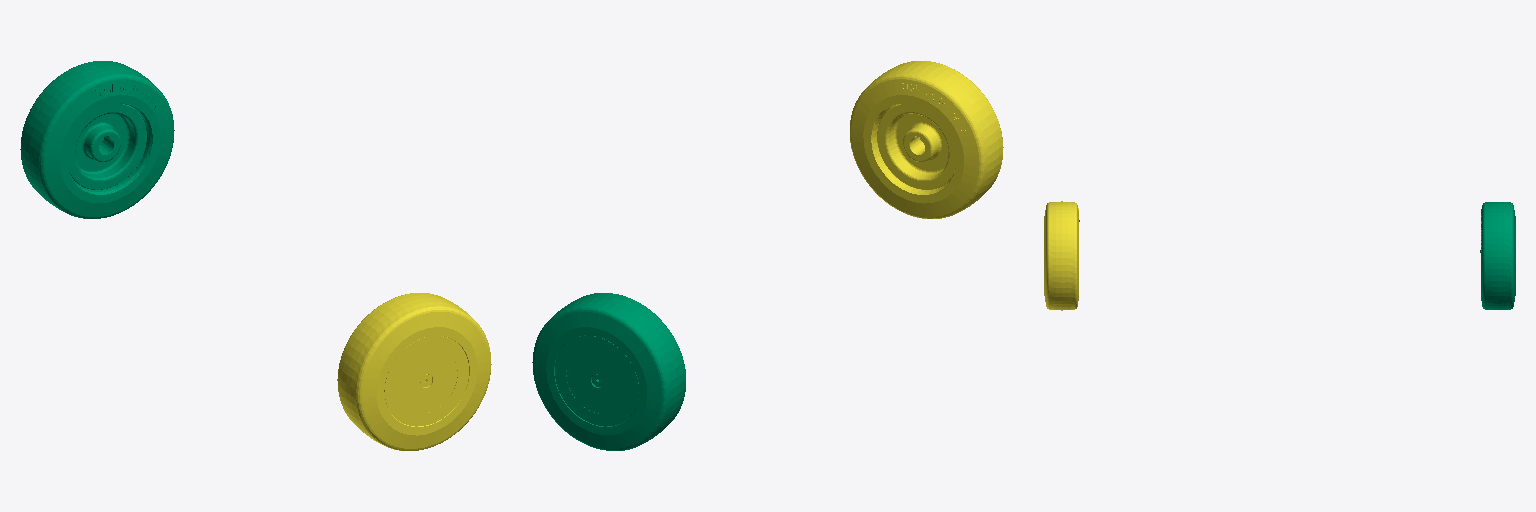
The robot description file, URDF, robot "swd_starter_kit":
<?xml version="1.0" encoding="utf-8"?>
<!-- This URDF describes the SWD Starter Kit robot -->

<robot name="swd_starter_kit">
  <link name="base_footprint"/>

  <joint name="base_joint" type="fixed">
    <parent link="base_footprint"/>
    <child link="base_link" />
    <origin xyz="0 0 0" rpy="0 0 0"/>
  </joint>

  <link name="base_link">
    <visual>
      <origin xyz="-0.46 -0.27 0.0" rpy="0 0 0" />
      <geometry>
        <mesh
            filename="package://swd_starter_kit_description/meshes/starter_kit_base.stl"
            scale="0.001 0.001 0.001" />
      </geometry>
      <material name="">
        <color rgba="0.5 0.5 0.5 1" />
      </material>
    </visual>
    <collision>
      <origin xyz="-0.46 -0.27 0.0" rpy="0 0 0" />
      <geometry>
        <mesh
            filename="package://swd_starter_kit_description/meshes/starter_kit_base.stl"
            scale="0.001 0.001 0.001"/>
      </geometry>
    </collision>
    <inertial>
      <origin xyz="-0.05 0 0" rpy="0 0 0"/>
      <mass value="27"/>
      <inertia ixx="0.70673" ixy="0.0" ixz="0.0"
               iyy="0.70673" iyz="0.0"
               izz="1.31220" />
    </inertial>
  </link>

  <joint name="base_swd_left_joint" type="continuous">
    <parent link="base_link" />
    <child link="swd_left_link" />
    <origin xyz="0.0 0.25 0.08" rpy="-1.57 0 0" />
    <axis xyz="0 0 1" />
  </joint>

  <link name="swd_left_link">
    <visual>
      <origin xyz="0 0 0" rpy="1.57 0 0"/>
      <geometry>
        <mesh filename="package://swd_starter_kit_description/meshes/wheels/starter_kit_left_tire.stl" scale="0.001 0.001 0.001"/>
      </geometry>
    </visual>

    <collision>
      <origin xyz="0 0 0" rpy="0 0 0"/>
      <geometry>
        <cylinder length="0.037" radius="0.0630"/>
      </geometry>
    </collision>

    <inertial>
      <origin xyz="0 0 0" />
      <mass value="1" />
      <inertia ixx="0.00111" ixy="0.0" ixz="0.0"
               iyy="0.00111" iyz="0.0"
               izz="0.00198" />
      </inertial>
  </link>

  <joint name="base_swd_right_joint" type="continuous">
    <parent link="base_link" />
    <child link="swd_right_link" />
    <origin xyz="0.0 -0.25 0.08" rpy="-1.57 0 0" />
    <axis xyz="0 0 1" />
  </joint>

  <link name="swd_right_link">
    <visual>
      <origin xyz="0 0 0" rpy="1.57 0 0"/>
      <geometry>
        <mesh filename="package://swd_starter_kit_description/meshes/wheels/starter_kit_right_tire.stl" scale="0.001 0.001 0.001"/>
      </geometry>
    </visual>

    <collision>
      <origin xyz="0 0 0" rpy="0 0 0"/>
      <geometry>
        <cylinder length="0.037" radius="0.0630"/>
      </geometry>
    </collision>

    <inertial>
      <origin xyz="0 0 0" />
      <mass value="1" />
      <inertia ixx="0.00111" ixy="0.0" ixz="0.0"
               iyy="0.00111" iyz="0.0"
               izz="0.00198" />
      </inertial>
  </link>

  <joint name="caster_back_right_joint" type="fixed">
    <parent link="base_link"/>
    <child link="caster_back_right_link"/>
    <origin xyz="-0.35 -0.17 0.025" rpy="0 0 0"/>
  </joint>

  <link name="caster_back_right_link">
    <collision>
      <origin xyz="0 0.001 0" rpy="0 0 0"/>
      <geometry>
        <sphere radius="0.01"/>
      </geometry>
    </collision>

    <inertial>
      <origin xyz="0 0 0" />
      <mass value="0.005" />
      <inertia ixx="0.001" ixy="0.0" ixz="0.0"
               iyy="0.001" iyz="0.0"
               izz="0.001" />
    </inertial>
  </link>

  <joint name="caster_back_left_joint" type="fixed">
    <parent link="base_link"/>
    <child link="caster_back_left_link"/>
    <origin xyz="-0.35 0.17 0.025" rpy="0 0 0"/>
  </joint>

  <link name="caster_back_left_link">
    <collision>
      <origin xyz="0 0.001 0" rpy="0 0 0"/>
      <geometry>
        <sphere radius="0.01"/>
      </geometry>
    </collision>

    <inertial>
      <origin xyz="0 0 0" />
      <mass value="0.005" />
      <inertia ixx="0.001" ixy="0.0" ixz="0.0"
               iyy="0.001" iyz="0.0"
               izz="0.001" />
    </inertial>
  </link>

  <gazebo reference="swd_left_link">
    <mu1>0.7</mu1>
    <mu2>0.7</mu2>
    <kp>500000.0</kp>
    <kd>10.0</kd>
    <minDepth>0.001</minDepth>
    <maxVel>0.1</maxVel>
    <fdir1>1 0 0</fdir1>
    <material>Gazebo/Yellow</material>
  </gazebo>

  <gazebo reference="swd_right_link">
    <mu1>0.7</mu1>
    <mu2>0.7</mu2>
    <kp>500000.0</kp>
    <kd>10.0</kd>
    <minDepth>0.001</minDepth>
    <maxVel>0.1</maxVel>
    <fdir1>1 0 0</fdir1>
    <material>Gazebo/Yellow</material>
  </gazebo>

  <gazebo reference="caster_back_right_link">
    <mu1>0.05</mu1>
    <mu2>0.05</mu2>
    <kp>500000.0</kp>
    <kd>10.0</kd>
    <minDepth>0.001</minDepth>
    <maxVel>1.0</maxVel>
    <material>Gazebo/FlatBlack</material>
  </gazebo>

  <gazebo reference="caster_back_left_link">
    <mu1>0.05</mu1>
    <mu2>0.05</mu2>
    <kp>500000.0</kp>
    <kd>10.0</kd>
    <minDepth>0.001</minDepth>
    <maxVel>1.0</maxVel>
    <material>Gazebo/FlatBlack</material>
  </gazebo>

  <gazebo>
    <plugin name="diff_drive_controller" filename="libgazebo_ros_diff_drive.so">
      <commandTopic>/swd_diff_drive_controller/cmd_vel</commandTopic>
      <odometryTopic>/swd_diff_drive_controller/odom</odometryTopic>
      <odometryFrame>odom</odometryFrame>
      <odometrySource>world</odometrySource>
      <publishOdomTF>true</publishOdomTF>
      <robotBaseFrame>base_link</robotBaseFrame>
      <publishWheelTF>false</publishWheelTF>
      <publishTf>true</publishTf>
      <publishWheelJointState>true</publishWheelJointState>
      <legacyMode>false</legacyMode>
      <updateRate>30</updateRate>
      <leftJoint>base_swd_left_joint</leftJoint>
      <rightJoint>base_swd_right_joint</rightJoint>
      <wheelSeparation>0.485</wheelSeparation>
      <wheelDiameter>0.125</wheelDiameter>
      <wheelAcceleration>11</wheelAcceleration>
      <wheelTorque>37</wheelTorque>
      <rosDebugLevel>na</rosDebugLevel>
    </plugin>
  </gazebo>

  <joint name="base_lidar_link" type="fixed">
    <origin xyz="0.05 0 0.2" rpy="0 0 0" />
    <parent link="base_link" />
    <child link="lidar_link" />
    <axis xyz="0 0 0" />
  </joint>

  <link name="lidar_link">
    <collision>
      <origin xyz="0 0 0" rpy="0 0 0"/>
      <geometry>
        <cylinder length="0.02" radius="0.035"/>
      </geometry>
    </collision>

    <inertial>
      <mass value="0.1" />
      <origin xyz="0 0 0" />
      <inertia ixx="0.001" ixy="0.0" ixz="0.0"
               iyy="0.001" iyz="0.0"
               izz="0.001" />
    </inertial>
  </link>

  <gazebo reference="lidar_link">
    <material>Gazebo/FlatBlack</material>
    <sensor type="ray" name="lidar_sensor">
      <pose>0 0 0 0 0 0</pose>
      <visualize>true</visualize>
      <update_rate>30</update_rate>
      <ray>
        <scan>
          <horizontal>
            <samples>1080</samples>
            <resolution>1</resolution>
            <min_angle>-2.356194496154785</min_angle>
            <max_angle>2.356194496154785</max_angle>
          </horizontal>
        </scan>
        <range>
          <min>0.09</min>
          <max>20</max>
          <resolution>0.001</resolution>
        </range>
        <noise>
          <type>gaussian</type>
          <mean>0.0</mean>
          <stddev>0.01</stddev>
        </noise>
      </ray>
      <plugin name="laser_controller" filename="libgazebo_ros_laser.so">
        <topicName>scan</topicName>
        <frameName>lidar_link</frameName>
      </plugin>
    </sensor>
  </gazebo>

</robot>

--- Facts derived from the render (not from the file) ---
The picture shows the robot from 3 angles, left to right: view 1: azimuth 30°, elevation 25°; view 2: azimuth 150°, elevation 25°; view 3: azimuth 270°, elevation 25°; orthographic projection.
Model swd_starter_kit with 7 links and 6 joints (2 continuous, 4 fixed), rooted at base_footprint, posed every joint at zero.
Links seen in each view (by area): view 1: swd_left_link, swd_right_link; view 2: swd_right_link, swd_left_link; view 3: swd_right_link, swd_left_link.
Link boxes in pixels (x1,y1,x2,y2): swd_left_link: [20, 61, 174, 218]; swd_right_link: [337, 293, 491, 450]; swd_right_link: [850, 61, 1003, 218]; swd_left_link: [532, 293, 685, 450]; swd_right_link: [1044, 201, 1079, 310]; swd_left_link: [1480, 202, 1515, 309].
Size in the robot's own frame: 0.1249 by 0.5399 by 0.125 metres.
Meshes: 3 distinct files referenced, 2 mesh visuals loaded (2 binary STL); not drawn: 1 (reference not matched to a file when rendering).
